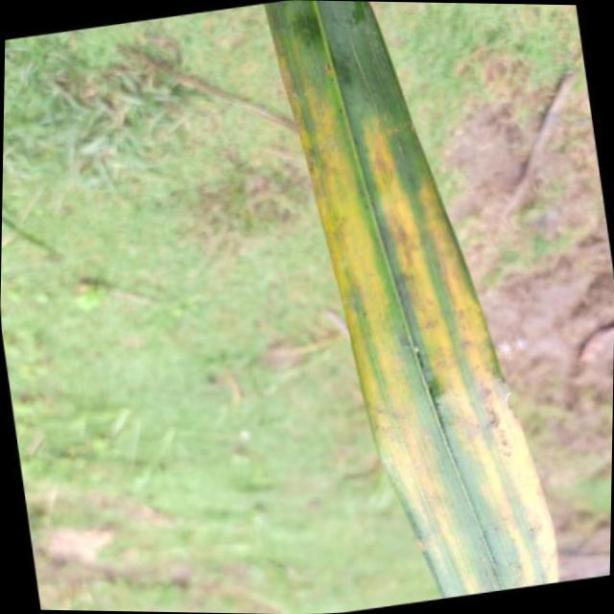Megnesium: (267, 0, 569, 600)
